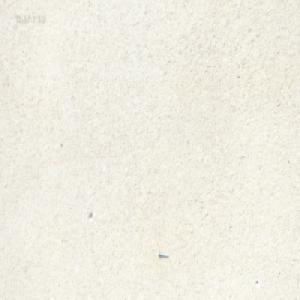Nail: (158, 251, 168, 259)
